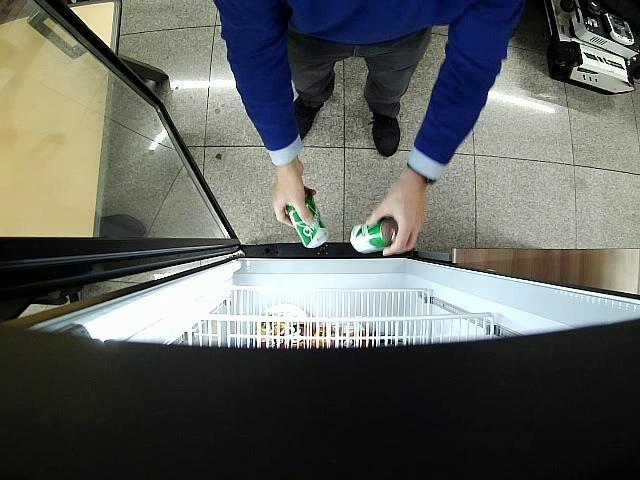12_chilsungCider: (286, 193, 331, 248), (350, 216, 398, 253)
